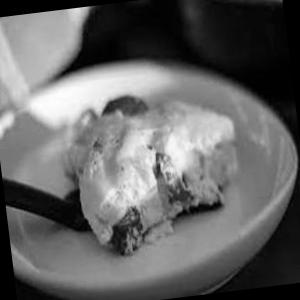omelet: (48, 70, 272, 255)
